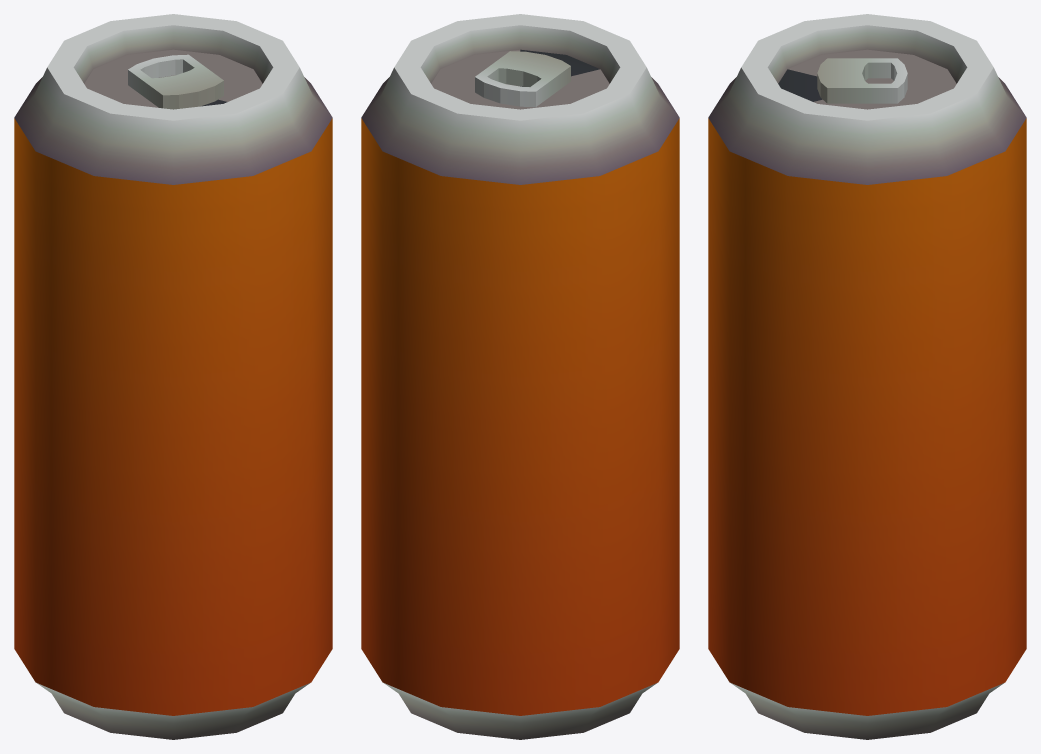
File: Can_02.glb
3 renders of one model, left to right at view 1: azimuth 30°, elevation 25°; view 2: azimuth 150°, elevation 25°; view 3: azimuth 270°, elevation 25°, orthographic.
Parts seen in each view (by area): view 1: Can_02; view 2: Can_02; view 3: Can_02.
Part boxes in pixels (x1,y1,x2,y2): Can_02: (14,14,332,739); Can_02: (361,14,679,739); Can_02: (708,14,1026,739).
Size of the model in its own units: 0.2 by 0.429 by 0.2.
Materials: 1 (1 with a texture image).
